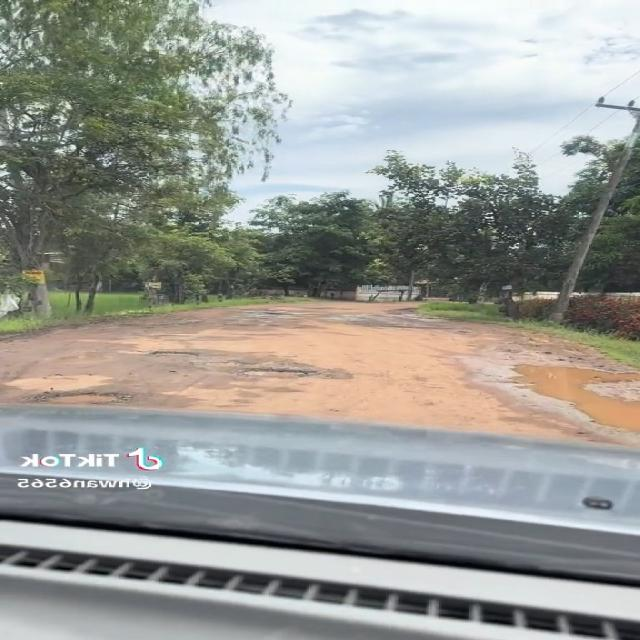Poth-hole: (119, 382, 240, 408)
